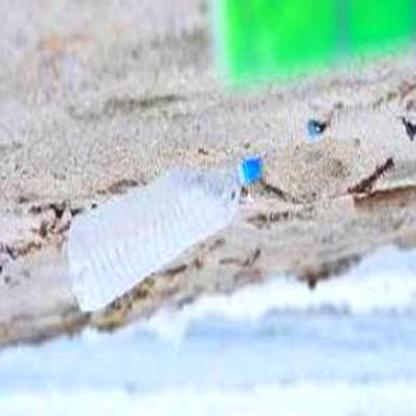plastic bottle: (67, 154, 264, 313)
